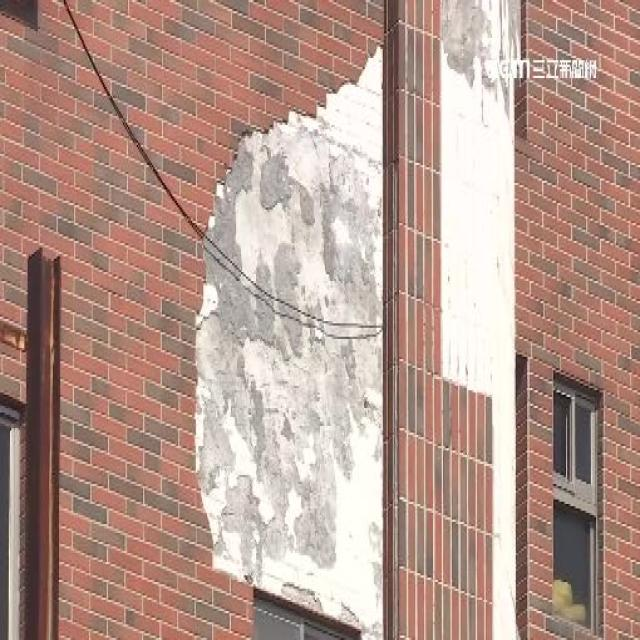tile: (195, 42, 382, 640), (440, 0, 517, 640)
